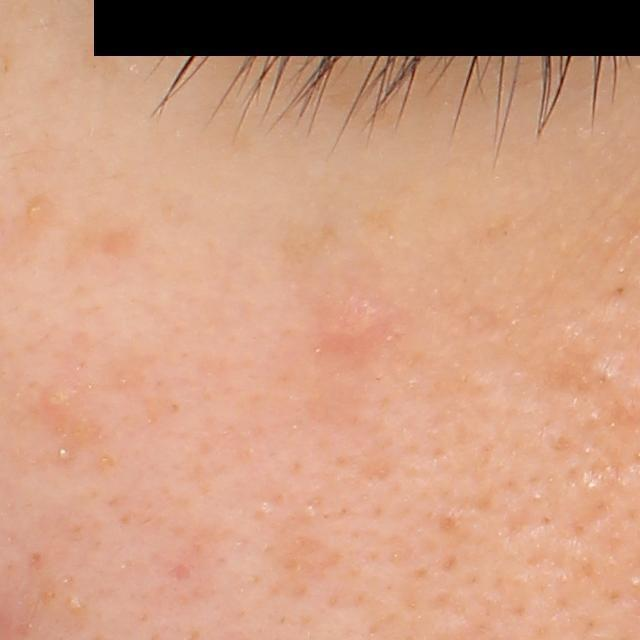comedo: (591, 357, 615, 391), (52, 441, 79, 467)
melasma: (273, 217, 348, 271), (82, 40, 118, 89)
papule: (315, 278, 396, 363)
